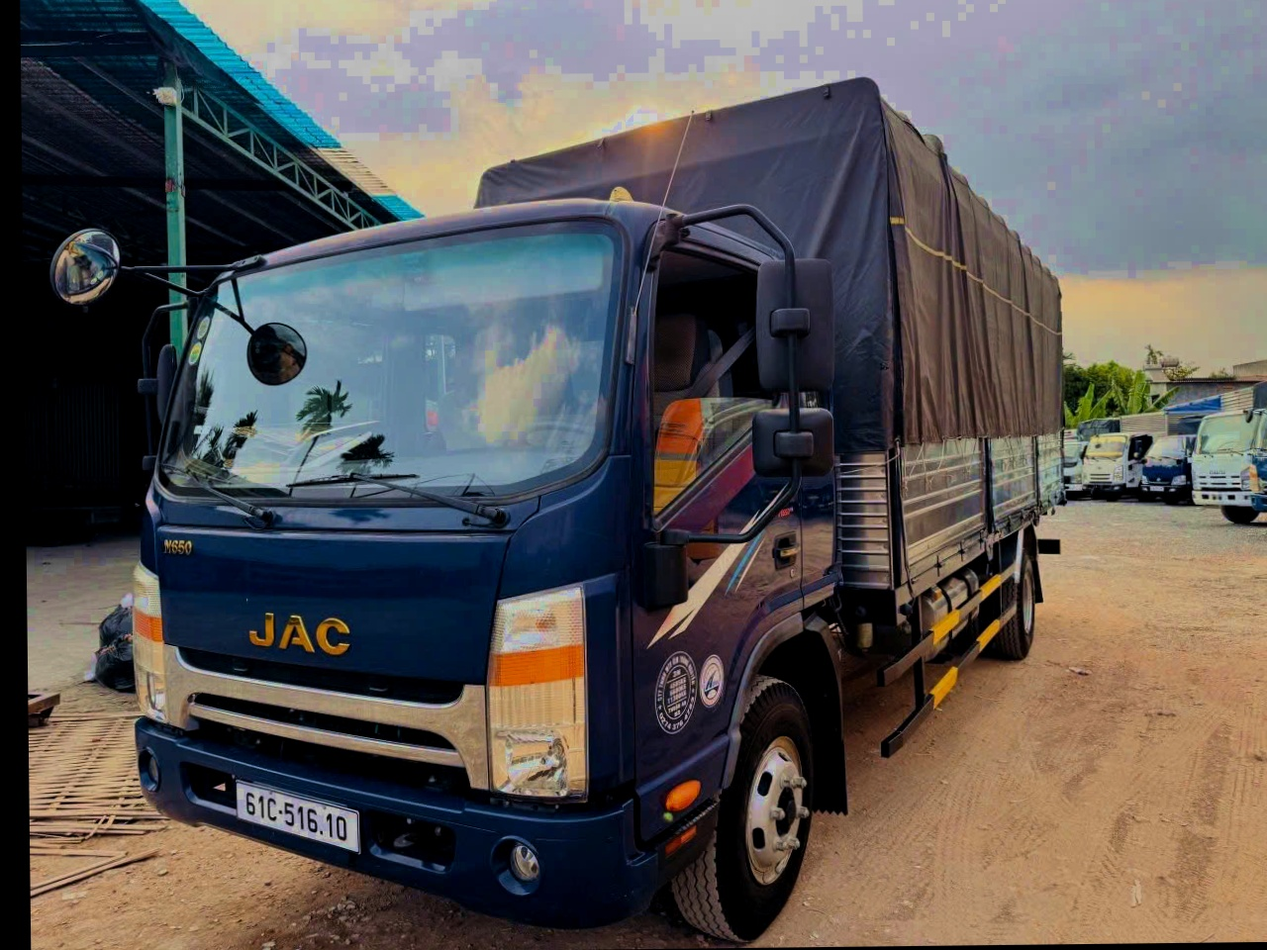Bien-so: (213, 816, 338, 885)
